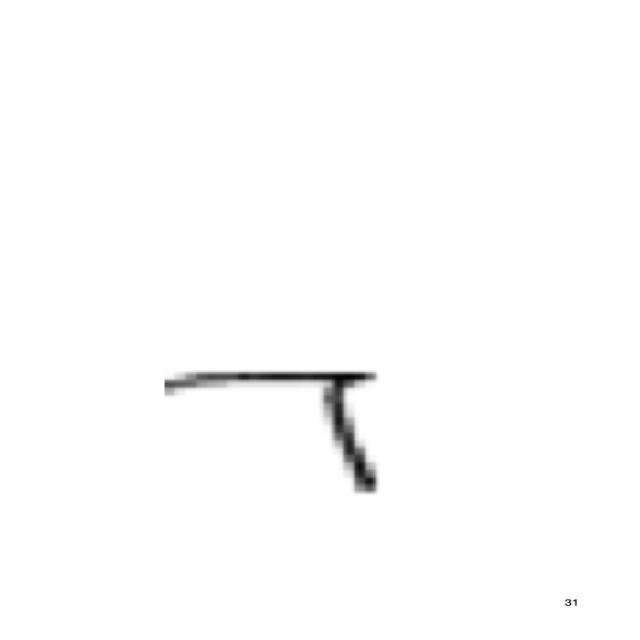6 -six-: (148, 354, 398, 503)
